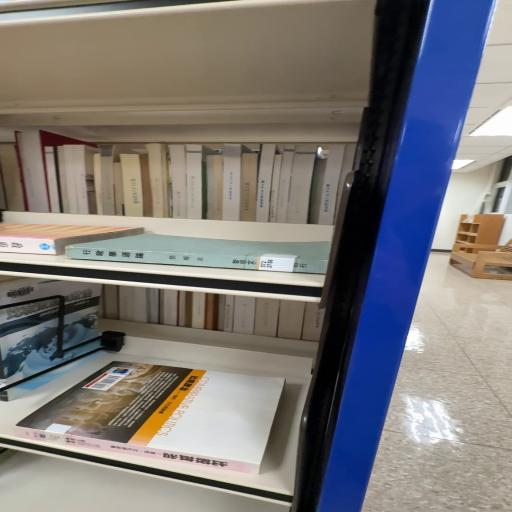flat: (17, 362, 286, 475), (66, 234, 331, 275)
